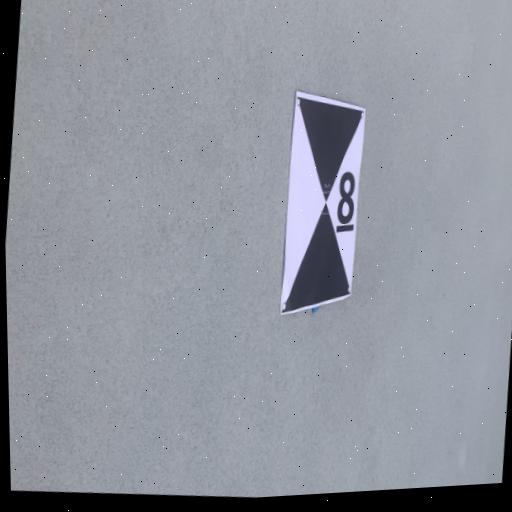target8: (279, 92, 366, 316)
